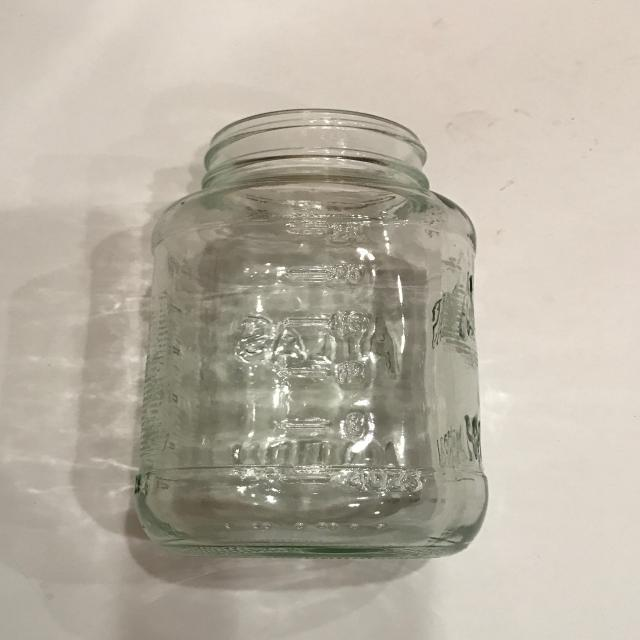glass: (132, 98, 489, 566)
